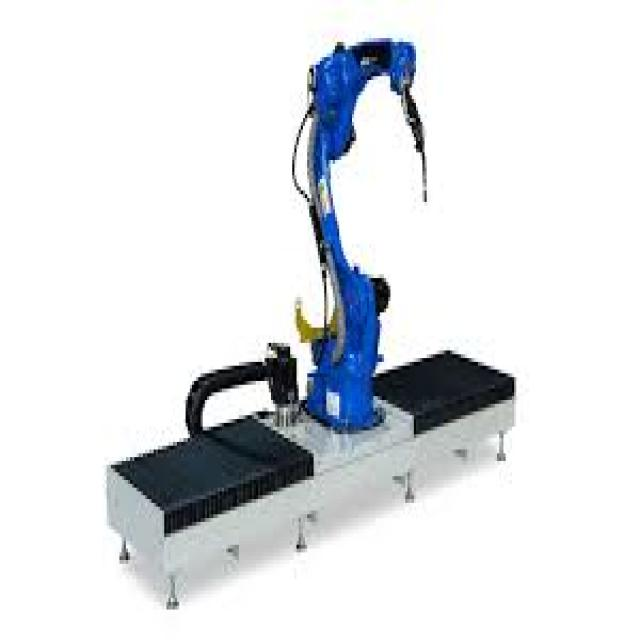Robotic-arm: (286, 22, 432, 424)
